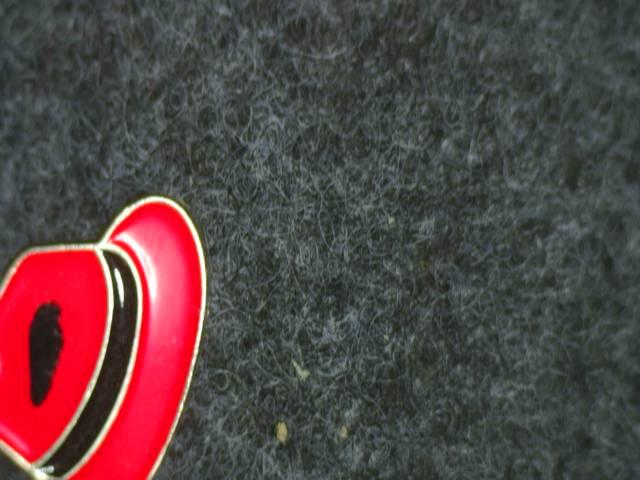Red-Hat: (0, 167, 224, 480)
Scratch: (14, 286, 80, 417)
